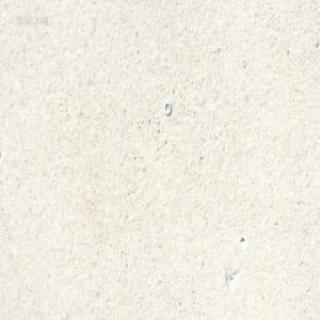Washertrack_idkeyframe: (162, 100, 170, 115)
